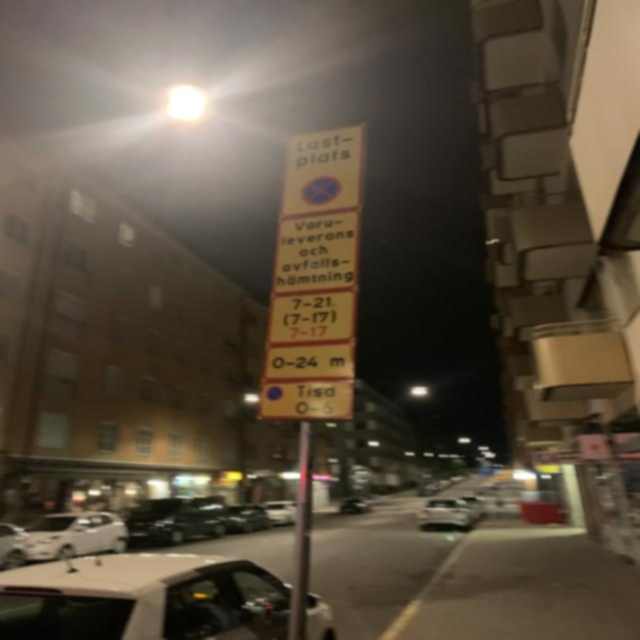lastplats: (281, 120, 368, 218)
